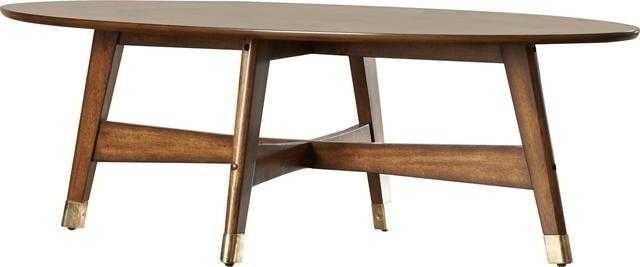obstacle: (0, 15, 228, 264), (242, 169, 546, 264), (537, 36, 639, 264), (377, 57, 520, 144), (305, 0, 639, 25), (261, 55, 356, 137)
